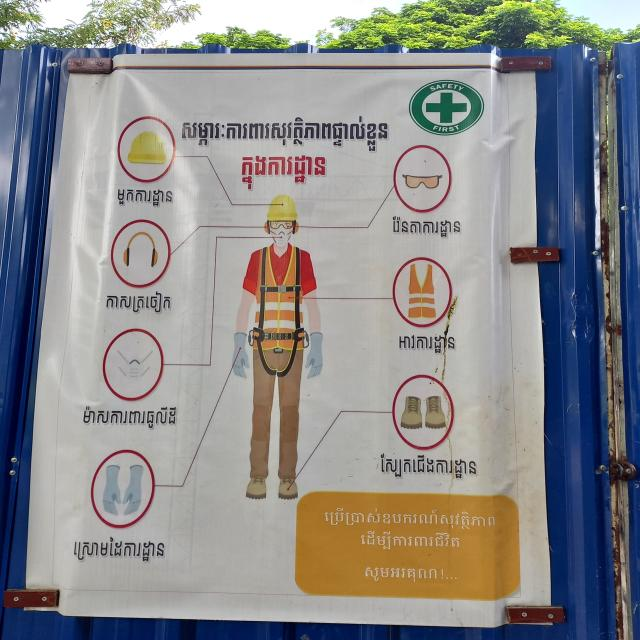Yolov11kh: (177, 113, 396, 153), (321, 506, 498, 531), (237, 154, 329, 196), (375, 450, 481, 484), (68, 531, 173, 564), (101, 285, 179, 320), (81, 403, 179, 430), (355, 529, 466, 552), (393, 330, 459, 358), (386, 215, 462, 239), (113, 184, 177, 209), (362, 564, 439, 584)
